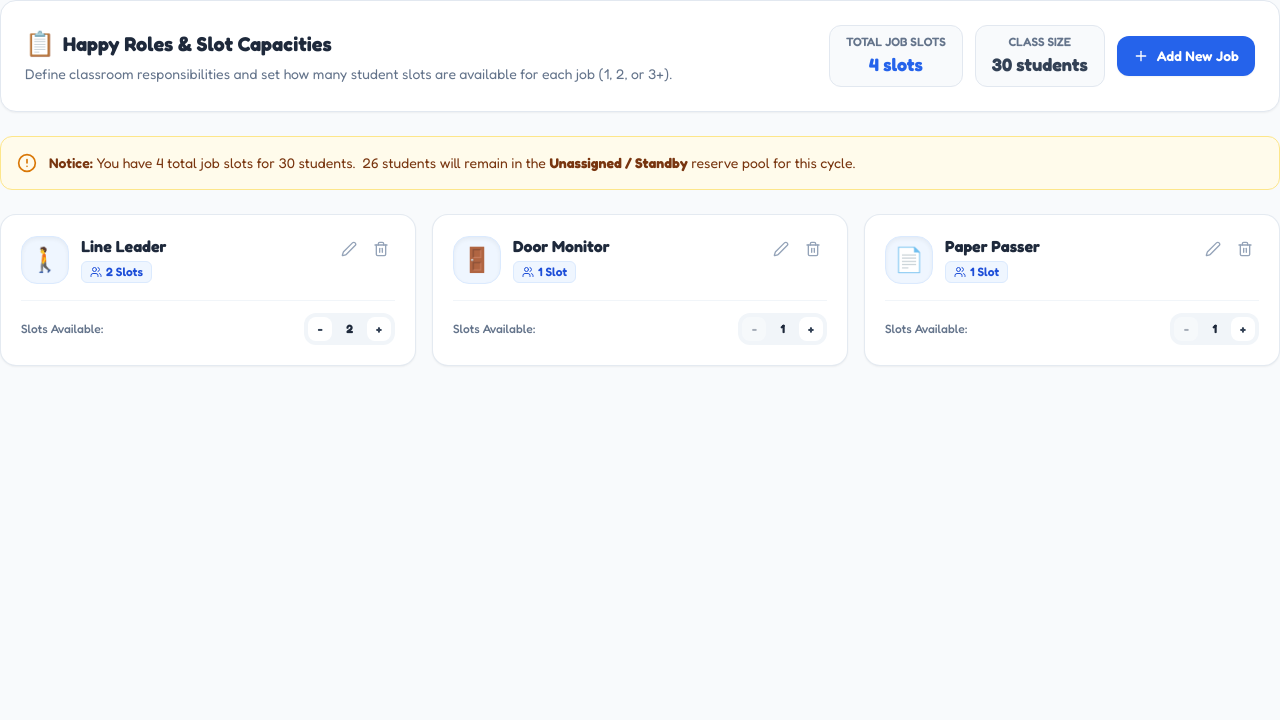
it: RoleManager › opens inline edit form replacing the job card
# Click edit on first job (Line Leader)
Step 1. Click the button named "edit job" in the row of "Line Leader" → (349, 249), box x1=335 y1=235 x2=363 y2=263
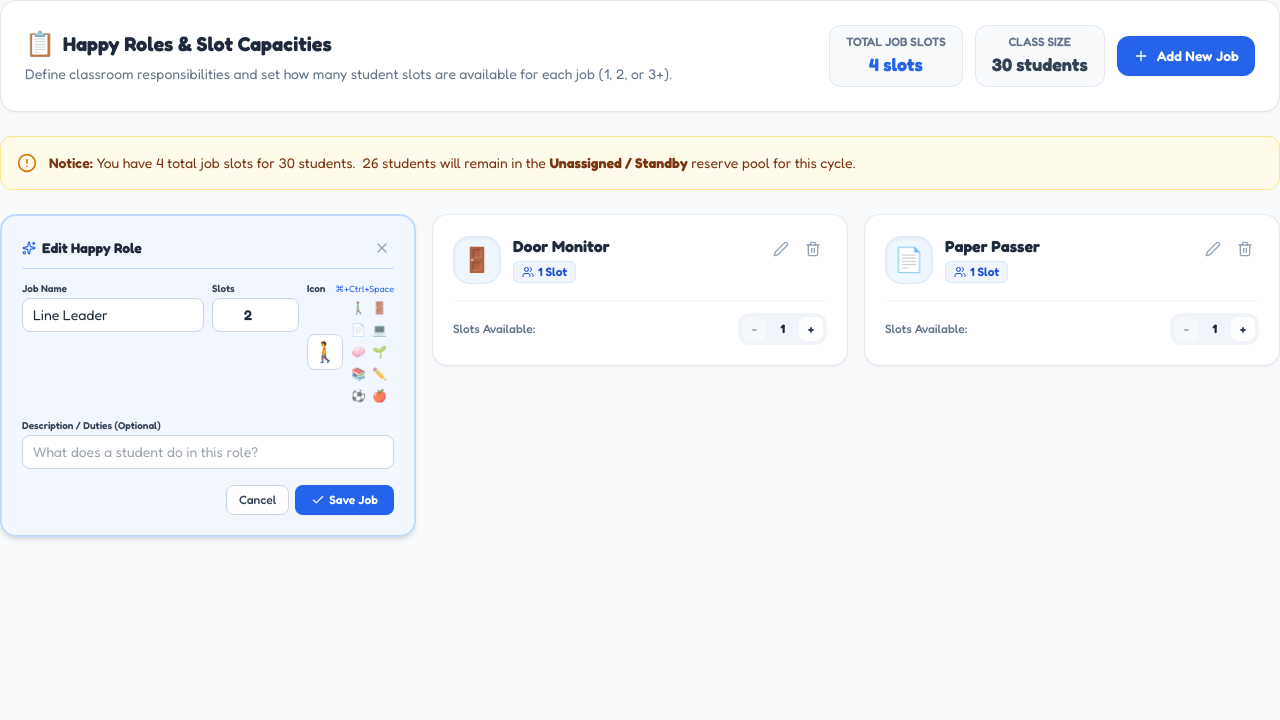
Now the heading "Edit Happy Role" is shown, box x1=22 y1=238 x2=142 y2=258
Now the field with placeholder "e.g. Line Leader..." holds "Line Leader", box x1=22 y1=298 x2=204 y2=332
Now the number field holds "2", box x1=212 y1=298 x2=299 y2=332
